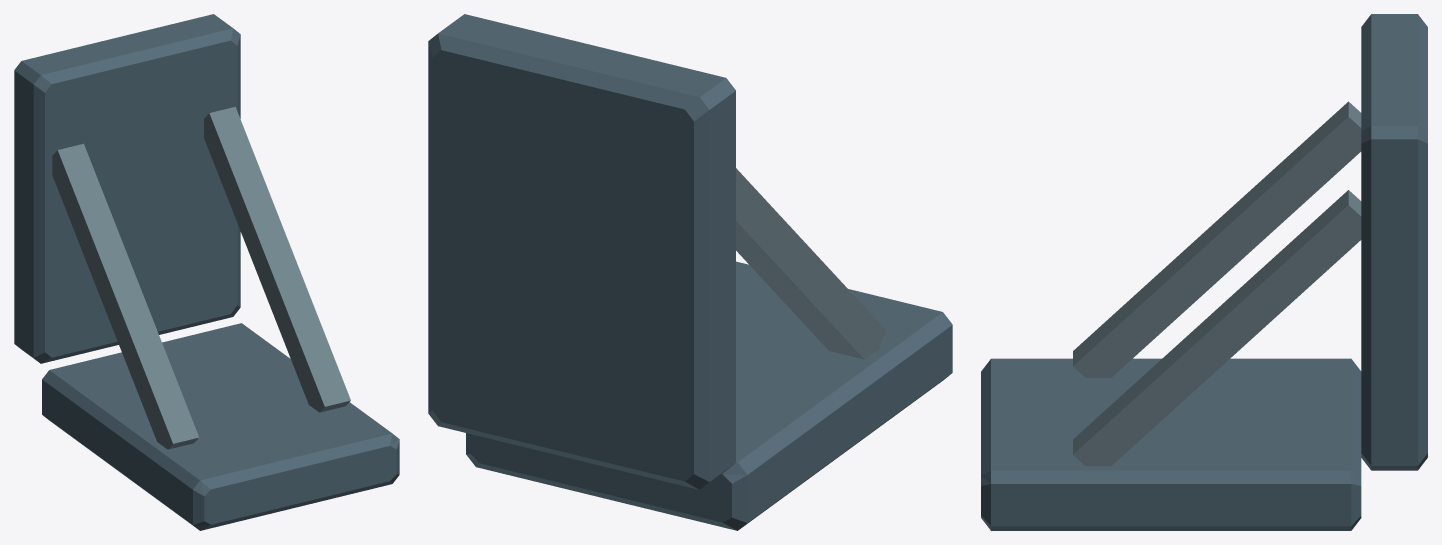
File: 18_AngleBracket.obj
3 views of the same model, side by side, from view 1: azimuth 30°, elevation 25°; view 2: azimuth 150°, elevation 25°; view 3: azimuth 270°, elevation 25° (orthographic). The views are drawn at different scales.
Size of the model in its own units: 0.3 by 0.47 by 0.47.
